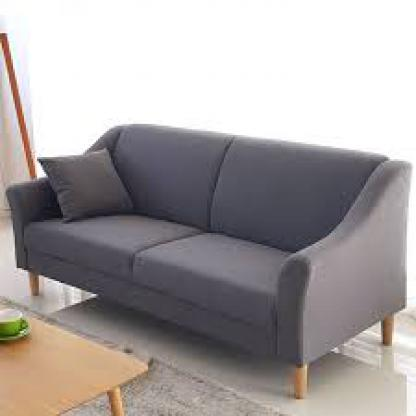sofa: (7, 118, 412, 396)
